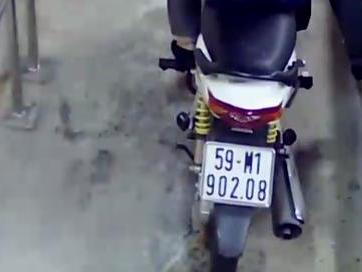num_plate: (197, 140, 276, 207)
